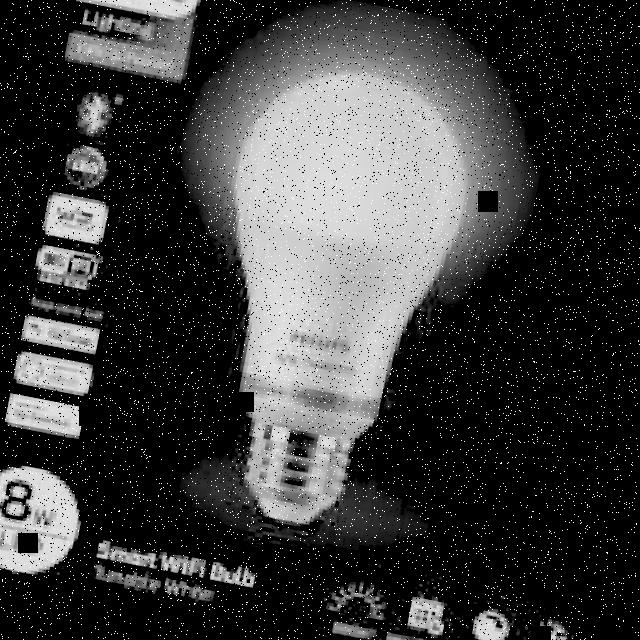light_bulb: (155, 34, 512, 568)
